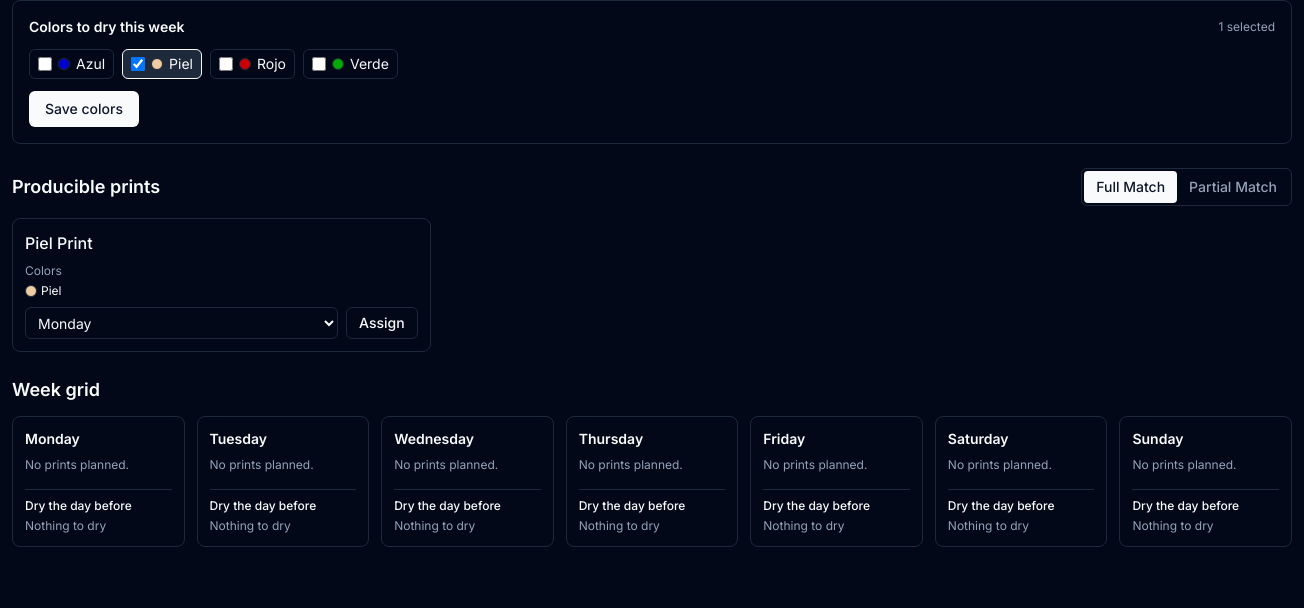
Scenario: WeekPlanner (R4–R6 — client-side matcher re-derivation) › toggling partial adds the partial print and shows its missing colors (R5)
The image size is (1304, 608).
Click the button "partial match" at (1233, 187), box [1177,171,1289,203]
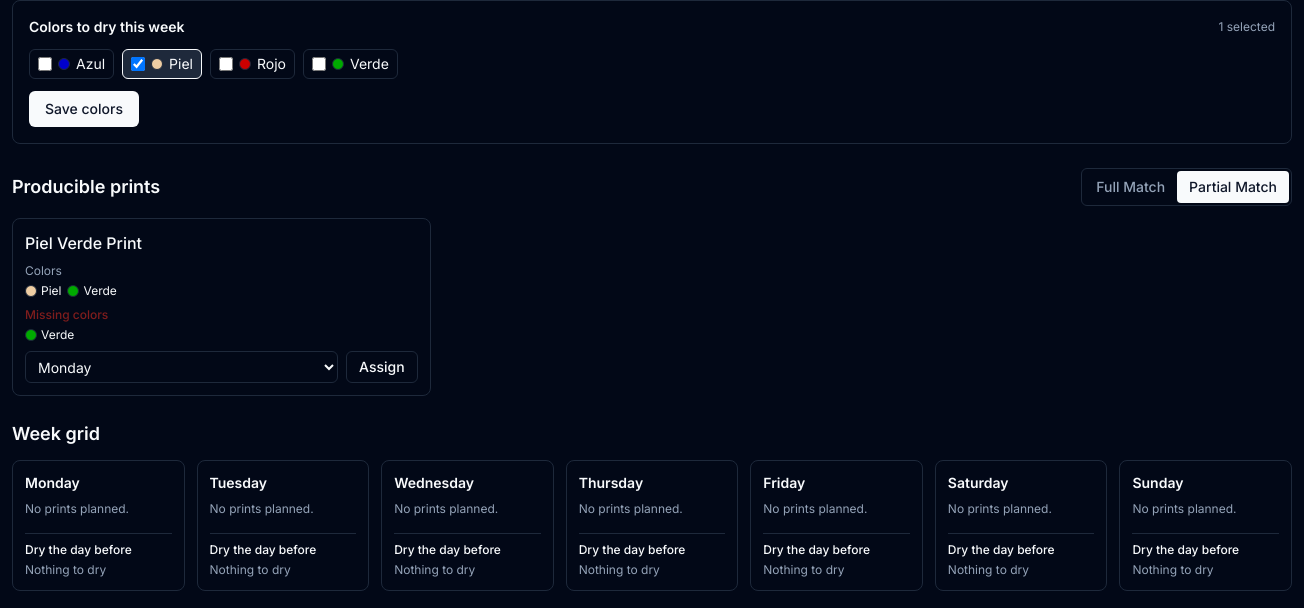
Expected: the text "Piel Verde Print" is shown, [25,231,142,255]
Expected: the text "Missing colors" is shown, [25,307,108,322]
